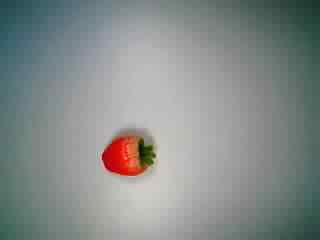strawberry: (98, 125, 160, 184)
